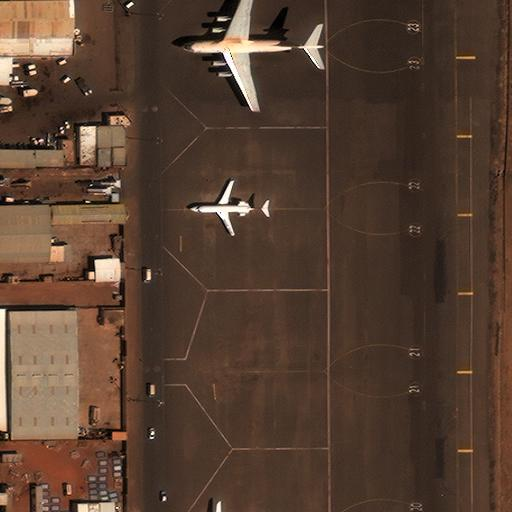Medium Civil Transport: (189, 179, 269, 236)
Military Transport: (180, 0, 324, 110)
